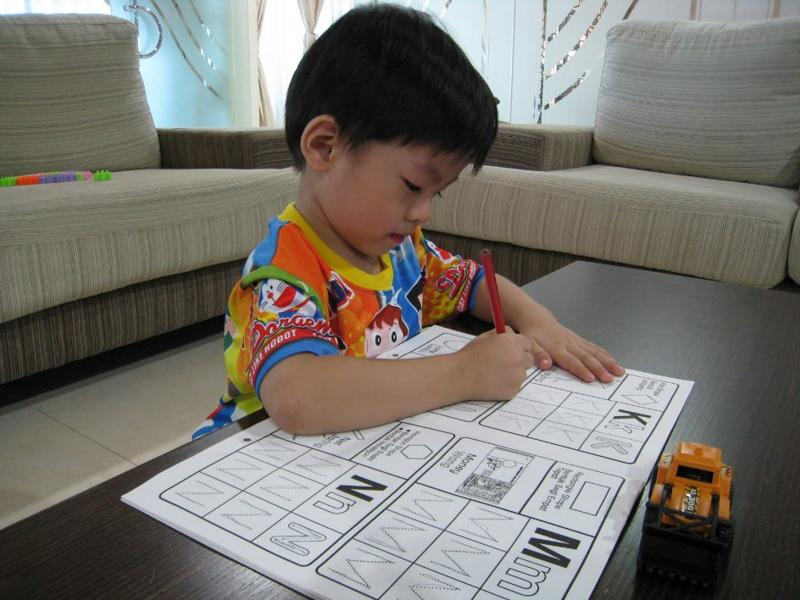person: (200, 5, 628, 436)
